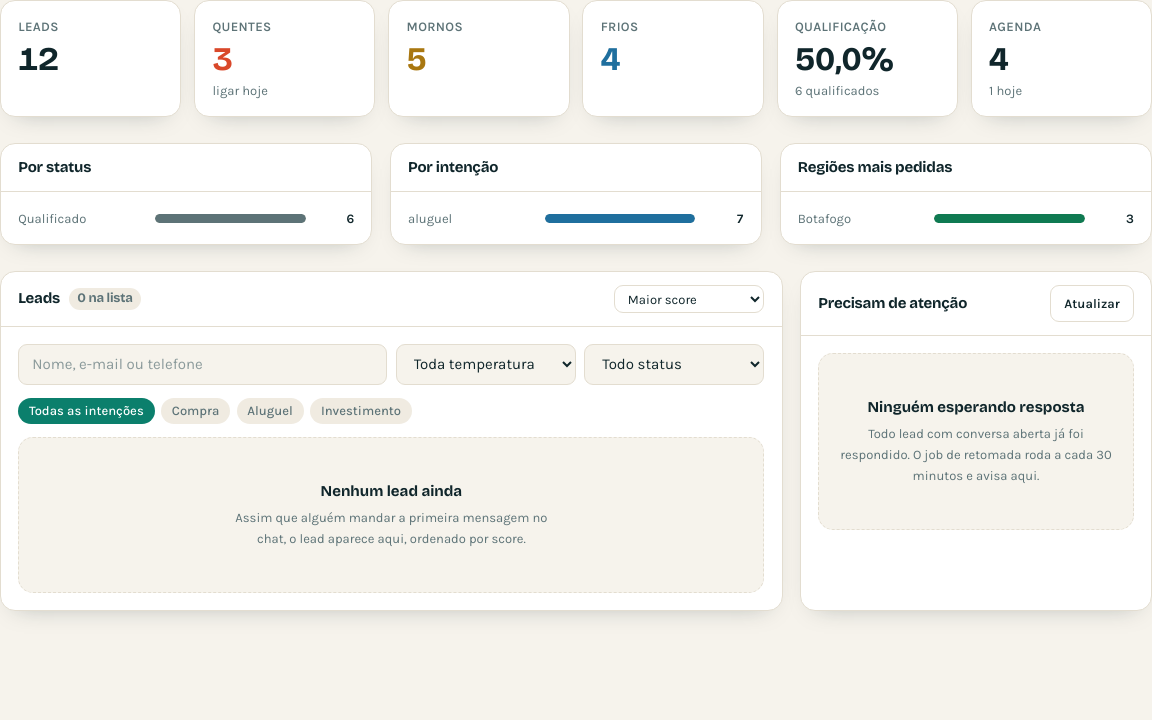
Scenario: filtros › explica o vazio de filtro diferente do vazio de base nova
Expected: the text "Nenhum lead ainda" is shown, 321,482 -> 462,500
Expected: the text "ordenado por score" is shown, 235,510 -> 548,546
Step 1. Click the button "Aluguel" → (270, 411), box 236,398 -> 304,424
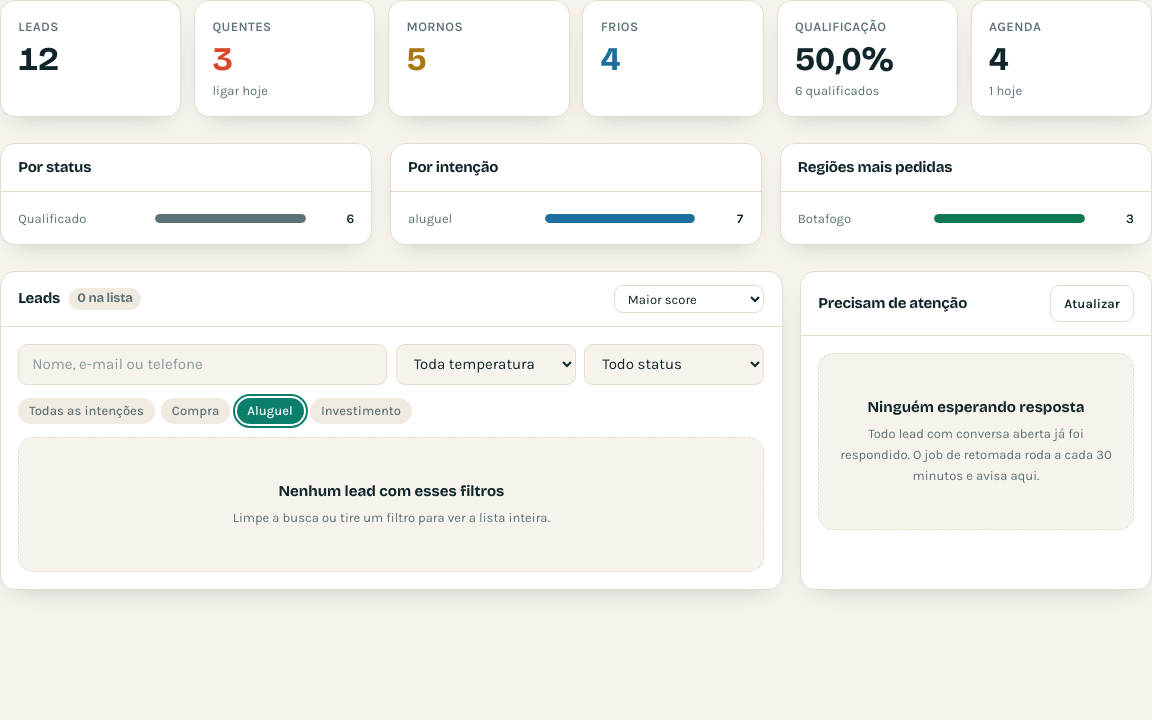
Result: the text "Nenhum lead com esses filtros" is shown at 278,482 -> 504,500
